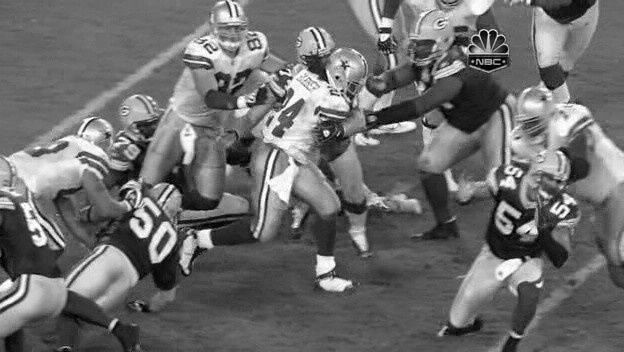person: (331, 49, 366, 94), (330, 49, 365, 94), (332, 49, 367, 94), (331, 48, 366, 93), (331, 50, 366, 95)
target_negative: (26, 106, 310, 211), (391, 113, 463, 290), (567, 58, 601, 320), (48, 43, 125, 148), (429, 9, 445, 59)
